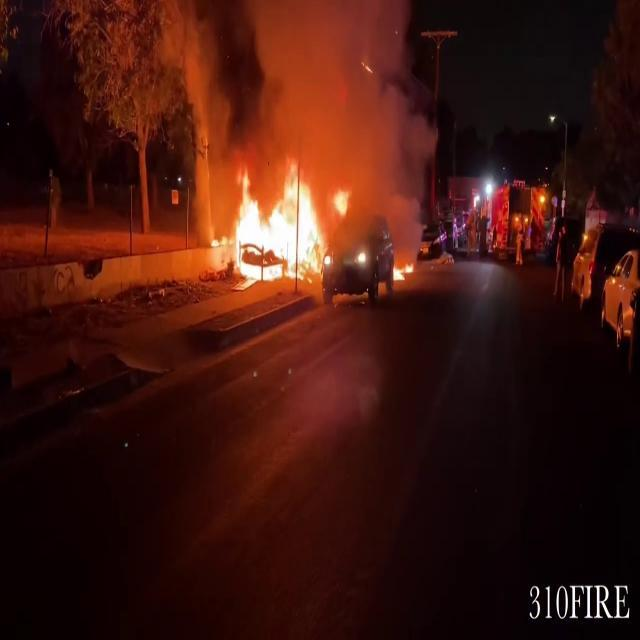Fire: (212, 161, 338, 284)
Smoke: (170, 0, 436, 175)
